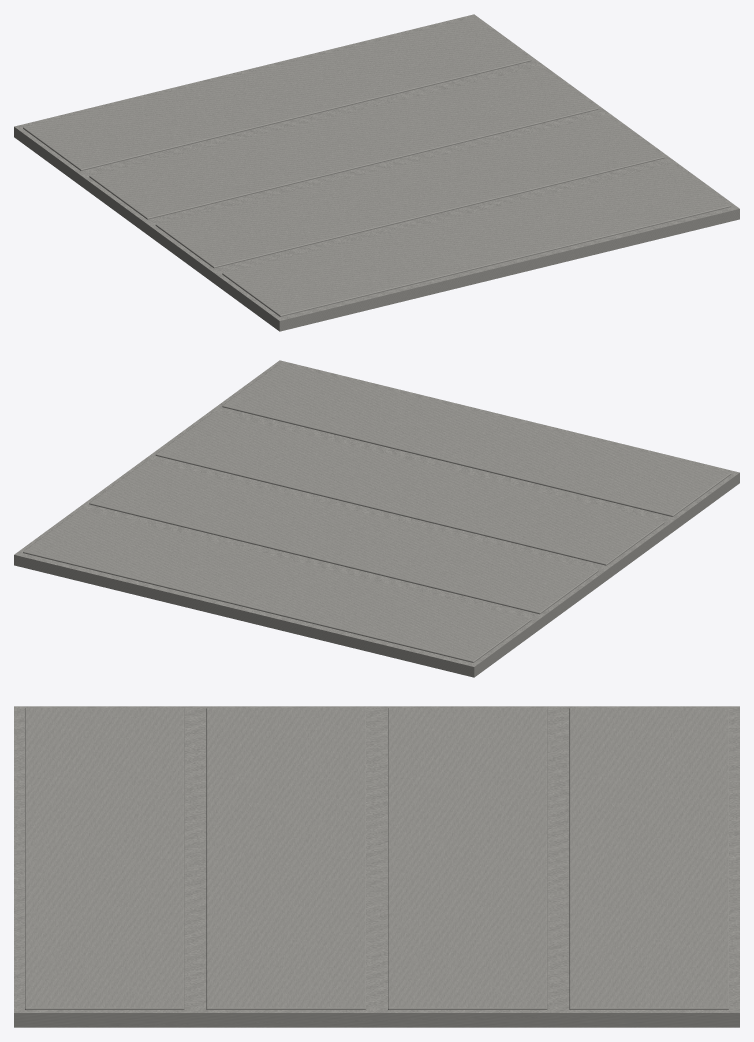
Rendered from tactical-shooter-hill-town-floor-tile-450ece79__27525.glb.
3 views of the same model, one above another, from view 1: azimuth 30°, elevation 25°; view 2: azimuth 150°, elevation 25°; view 3: azimuth 270°, elevation 25° (orthographic). The views are drawn at different scales.
Parts seen in each view (by area): view 1: floor-tile; view 2: floor-tile; view 3: floor-tile.
Boxes of the visible parts, box(x1,y1,x2,y2) form: floor-tile: box(14, 14, 739, 331); floor-tile: box(14, 360, 739, 677); floor-tile: box(14, 706, 739, 1027).
Size of the model in its own units: 4 by 0.1001 by 4.
Materials: 1 (1 with a texture image).
